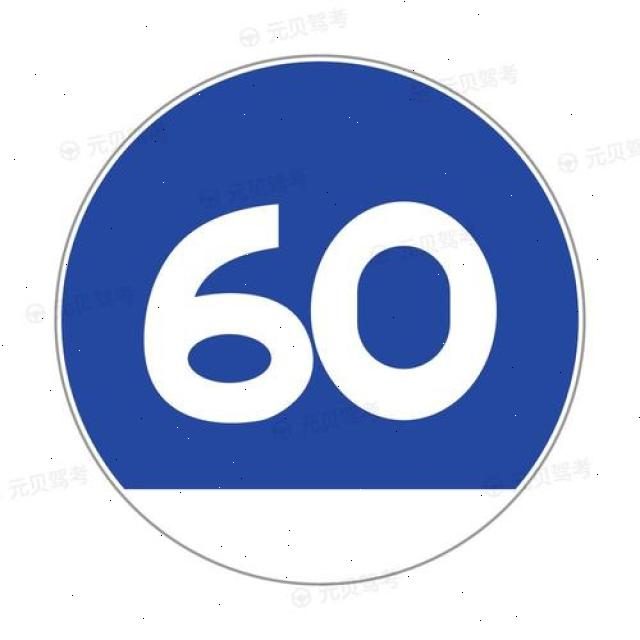speed limit 60: (53, 56, 588, 584)
